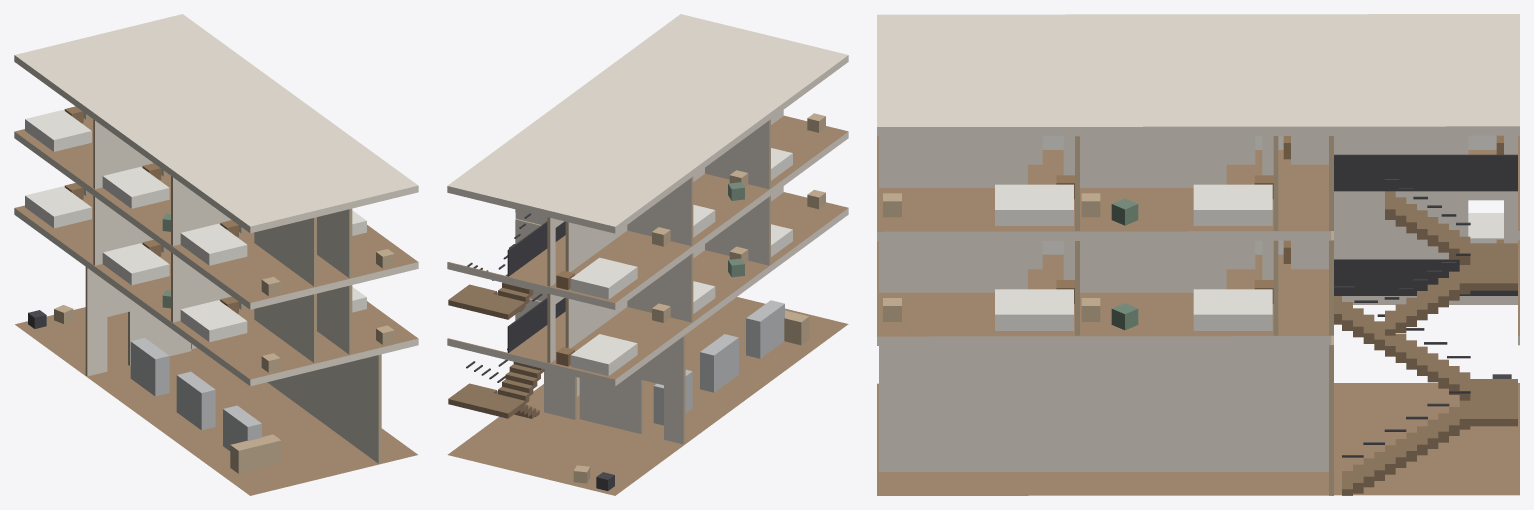
The model's file is interior.glb.
3 views of the same model, side by side, from view 1: azimuth 30°, elevation 25°; view 2: azimuth 150°, elevation 25°; view 3: azimuth 270°, elevation 25° (orthographic). The views are drawn at different scales.
Visible parts, largest first — view 1: slabs, partitions, coarse-s1, coarse-s2, coarse-s0; view 2: slabs, partitions, stair, coarse-s0, coarse-s1, coarse-s2; view 3: slabs, partitions, stair, coarse-s1, coarse-s2.
Part boxes in pixels (box(x1,y1,x2,y2)): slabs: box(14, 14, 418, 495); partitions: box(83, 112, 381, 463); coarse-s1: box(25, 183, 394, 372); coarse-s2: box(25, 106, 394, 296); coarse-s0: box(28, 305, 281, 473); slabs: box(447, 14, 848, 495); partitions: box(515, 110, 783, 444); stair: box(448, 213, 565, 418); coarse-s0: box(573, 300, 809, 490); coarse-s1: box(556, 189, 825, 375); coarse-s2: box(556, 113, 825, 299); slabs: box(877, 14, 1519, 495); partitions: box(879, 135, 1517, 495); stair: box(1334, 154, 1517, 495); coarse-s1: box(883, 213, 1503, 330); coarse-s2: box(883, 135, 1503, 225).
Bounding box in the file's own units: 6.76 × 10.3 × 16.24.
